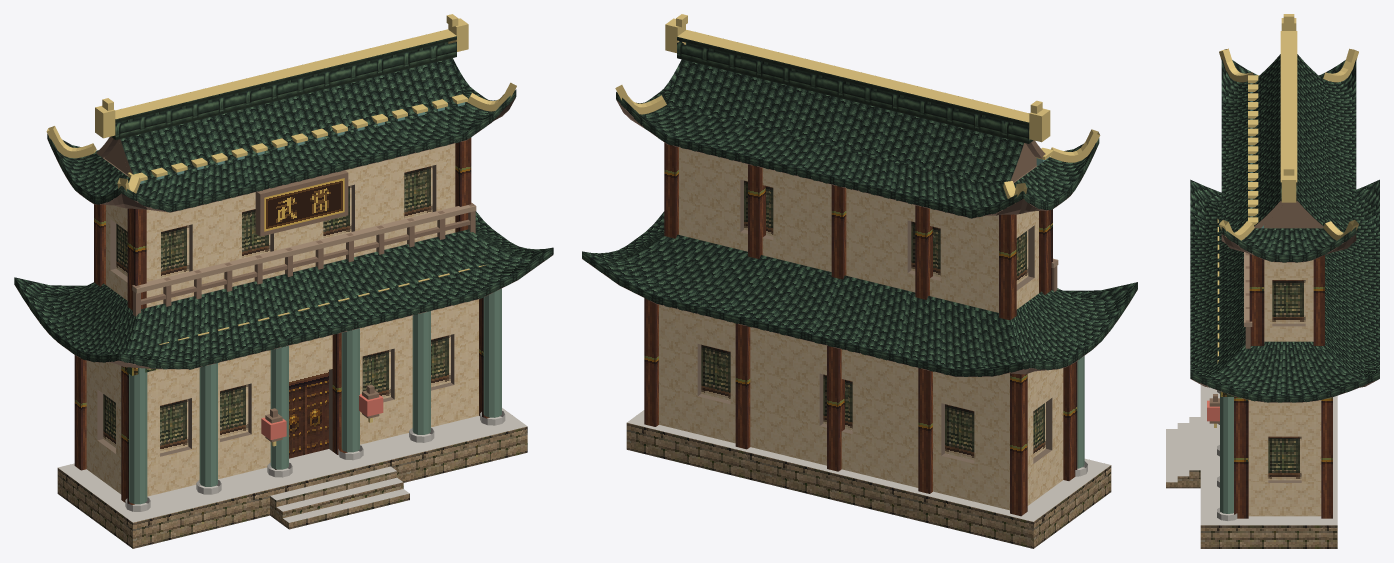
The model's file is g_wudang_hut_b.glb.
The picture shows the model from 3 angles, left to right: view 1: azimuth 30°, elevation 25°; view 2: azimuth 150°, elevation 25°; view 3: azimuth 270°, elevation 25°; orthographic projection. The views are drawn at different scales.
Parts seen in each view (by area): view 1: roof, plaster, col, stone, stonetop, win, post, eave, ridge, wood, ridgeend, woodl (+6 smaller); view 2: roof, plaster, post, stone, eave, ridge, ridgeend, win, stonetop, reveal, under, col (+1 smaller); view 3: roof, plaster, stonetop, post, ridgeend, stone, win, eave, gold, col, wood, under (+1 smaller).
Part boxes in pixels (x1=…): roof: x1=14, y1=58, x2=552, y2=362; plaster: x1=86, y1=143, x2=478, y2=496; col: x1=129, y1=288, x2=501, y2=504; stone: x1=57, y1=426, x2=527, y2=548; stonetop: x1=58, y1=408, x2=527, y2=522; win: x1=103, y1=165, x2=450, y2=453; post: x1=74, y1=137, x2=489, y2=504; eave: x1=14, y1=89, x2=553, y2=369; ridge: x1=111, y1=36, x2=456, y2=139; wood: x1=96, y1=136, x2=475, y2=442; ridgeend: x1=46, y1=14, x2=516, y2=193; woodl: x1=132, y1=202, x2=476, y2=307; roof: x1=582, y1=59, x2=1137, y2=369; plaster: x1=659, y1=147, x2=1063, y2=510; post: x1=644, y1=142, x2=1077, y2=516; stone: x1=626, y1=423, x2=1111, y2=548; eave: x1=582, y1=92, x2=1137, y2=376; ridge: x1=677, y1=36, x2=1033, y2=143; ridgeend: x1=615, y1=14, x2=1100, y2=203; win: x1=701, y1=180, x2=1045, y2=460; stonetop: x1=627, y1=410, x2=1110, y2=521; reveal: x1=697, y1=179, x2=1052, y2=463; under: x1=582, y1=100, x2=1137, y2=376; col: x1=1077, y1=356, x2=1084, y2=468; roof: x1=1190, y1=54, x2=1379, y2=395; plaster: x1=1248, y1=260, x2=1321, y2=516; stonetop: x1=1166, y1=385, x2=1337, y2=525; post: x1=1234, y1=254, x2=1332, y2=518; ridgeend: x1=1219, y1=14, x2=1358, y2=240; stone: x1=1166, y1=470, x2=1337, y2=548; win: x1=1268, y1=280, x2=1305, y2=480; eave: x1=1190, y1=227, x2=1379, y2=402; gold: x1=1214, y1=75, x2=1258, y2=427; col: x1=1220, y1=391, x2=1233, y2=513; wood: x1=1209, y1=201, x2=1323, y2=423; under: x1=1190, y1=218, x2=1377, y2=402.
Bounding box in the file's own units: 86.83 × 77.59 × 40.69.
Materials: 20 (10 with a texture image).
